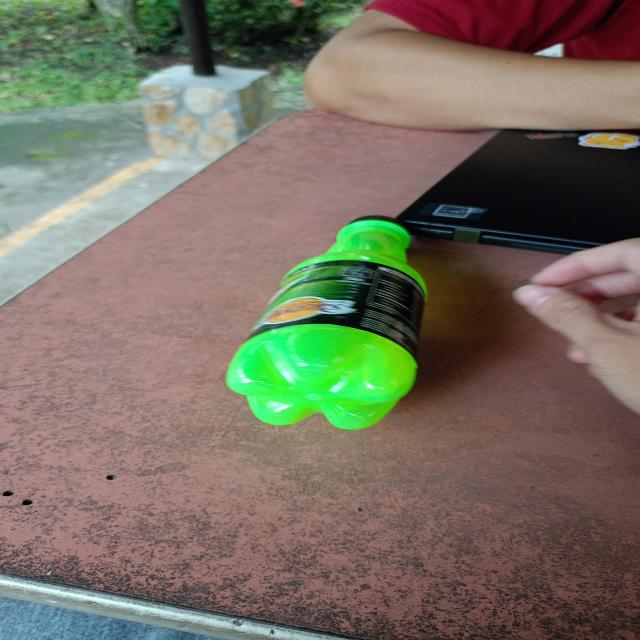Anorganik: (213, 208, 437, 436)
